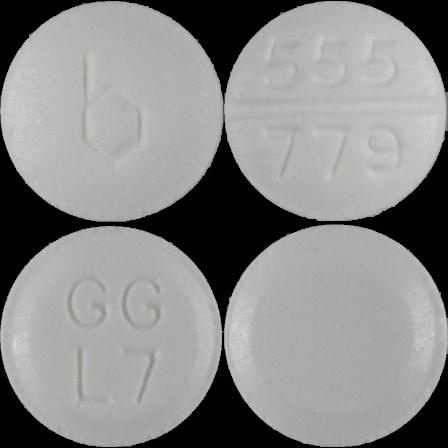64205-077: (0, 0, 224, 224)
